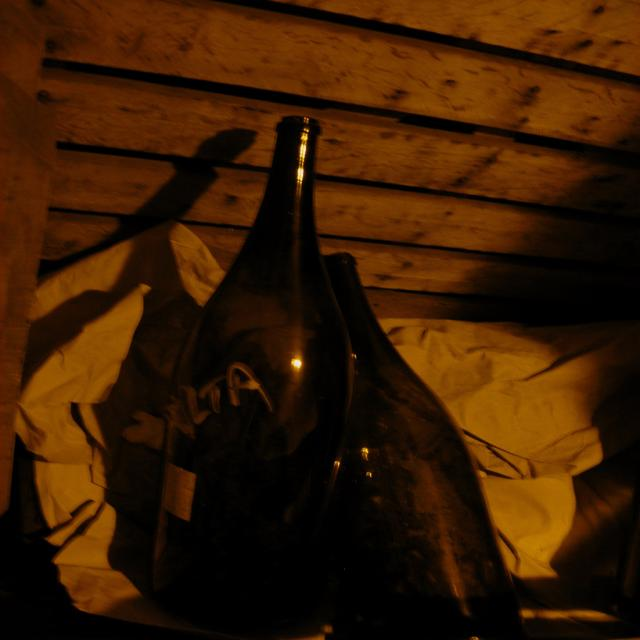Bottle: (73, 93, 400, 612), (311, 251, 538, 640)
